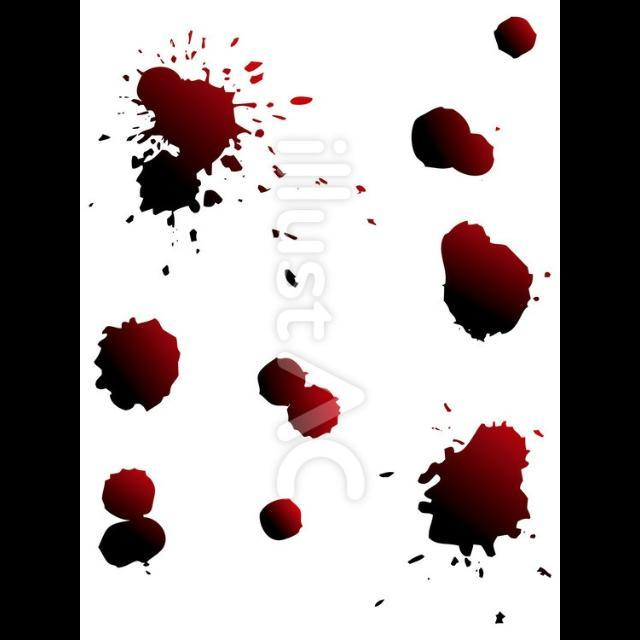blood: (131, 66, 257, 227), (418, 420, 531, 557), (441, 220, 533, 342), (94, 317, 180, 411), (257, 358, 341, 439), (98, 468, 165, 567), (411, 107, 495, 176), (259, 497, 302, 540), (495, 15, 537, 58)
